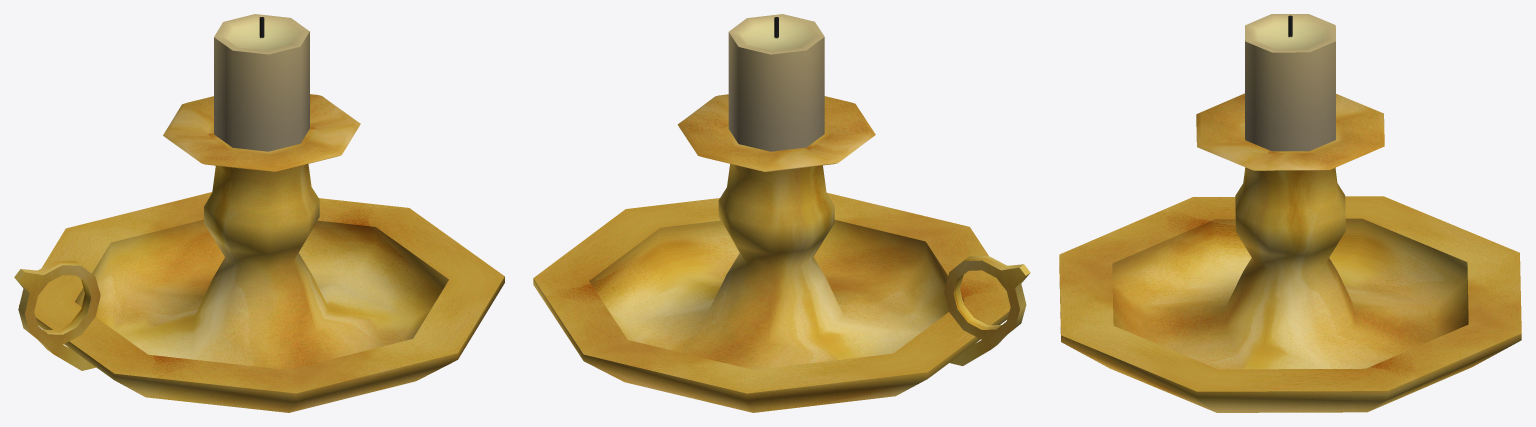
Rendered from CandleHolder.FBX.
3 views of the same model, side by side, from view 1: azimuth 30°, elevation 25°; view 2: azimuth 150°, elevation 25°; view 3: azimuth 270°, elevation 25° (orthographic).
Parts seen in each view (by area): view 1: Candle; view 2: Candle; view 3: Candle.
Boxes of the visible parts, bbox=[...] form: Candle: bbox=[14, 14, 504, 412]; Candle: bbox=[533, 14, 1030, 412]; Candle: bbox=[1059, 14, 1521, 412].
Size of the model in its own units: 21.25 by 15.21 by 18.79.
